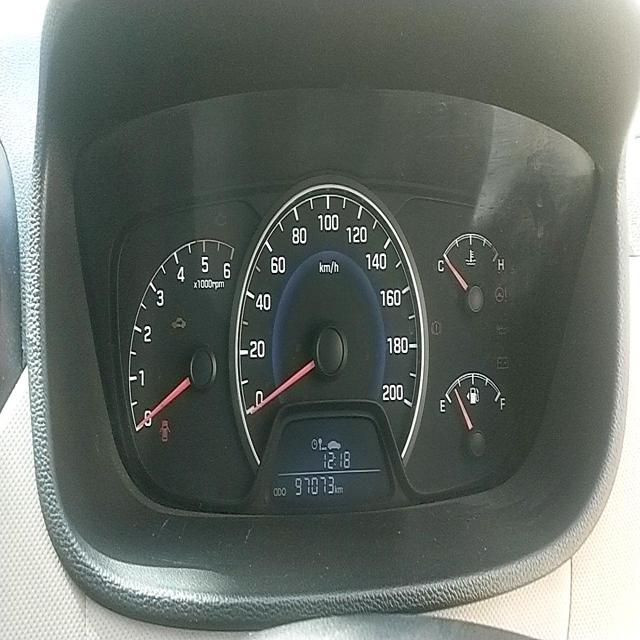odometer: (294, 474, 334, 497)
